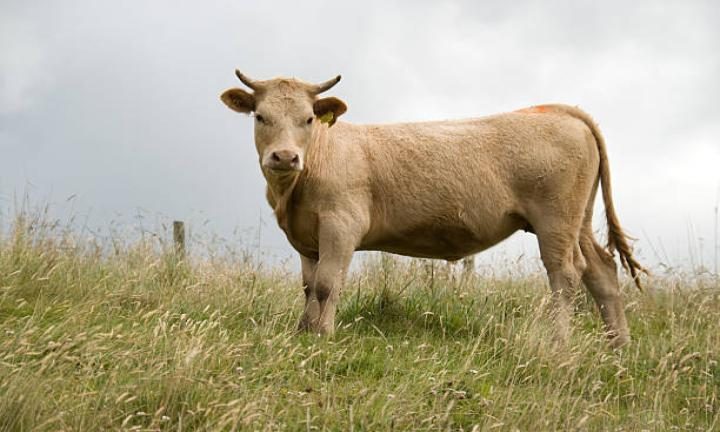Charolais: (221, 71, 642, 342)
